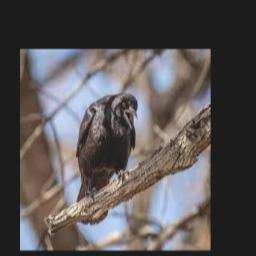Crow: (75, 92, 138, 225)
